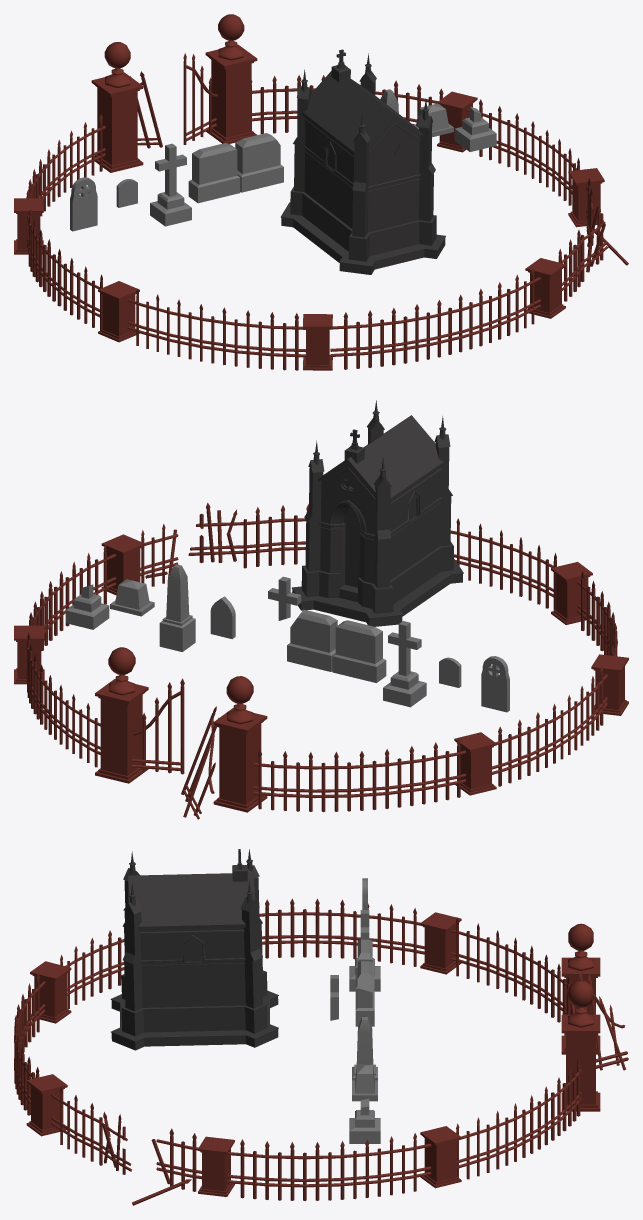
The model's file is GraveyardAssets.fbx.
3 renders of one model, top to bottom at view 1: azimuth 30°, elevation 25°; view 2: azimuth 150°, elevation 25°; view 3: azimuth 270°, elevation 25°, orthographic. The views are drawn at different scales.
Parts seen in each view (by area): view 1: polySurface48, polySurface178, polySurface191, polySurface190, polySurface189, polySurface193, polySurface198, polySurface197, polySurface192; view 2: polySurface48, polySurface178, polySurface191, polySurface190, polySurface196, polySurface189, polySurface193, polySurface198, polySurface197, polySurface195, polySurface194, polySurface192; view 3: polySurface48, polySurface178, polySurface190, polySurface198, polySurface196, polySurface197, polySurface189, polySurface191.
Part boxes in pixels (x1,y1,x2,y2): polySurface48: (14,14,628,370); polySurface178: (280,49,445,274); polySurface191: (188,143,240,203); polySurface190: (235,133,283,192); polySurface189: (150,143,191,226); polySurface193: (70,177,97,231); polySurface198: (454,107,496,151); polySurface197: (414,103,453,137); polySurface192: (116,179,137,207); polySurface48: (14,502,628,819); polySurface178: (292,400,463,626); polySurface191: (332,620,386,682); polySurface190: (287,609,337,671); polySurface196: (159,564,195,651); polySurface189: (383,621,426,707); polySurface193: (481,656,509,712); polySurface198: (65,584,109,629); polySurface197: (110,579,154,616); polySurface195: (210,596,235,639); polySurface194: (268,576,301,620); polySurface192: (439,657,461,687); polySurface48: (14,898,628,1205); polySurface178: (110,849,278,1050); polySurface190: (355,961,374,1026); polySurface198: (349,1098,380,1143); polySurface196: (352,1017,377,1101); polySurface197: (352,1064,377,1099); polySurface189: (349,910,380,991); polySurface191: (355,939,374,989).
Bounding box in the file's own units: 11.44 × 5.13 × 11.95.
